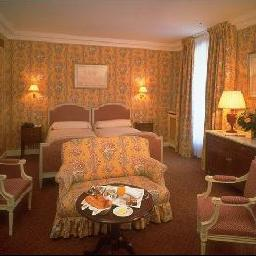Ventana: (94, 107, 160, 141), (44, 111, 96, 140)
